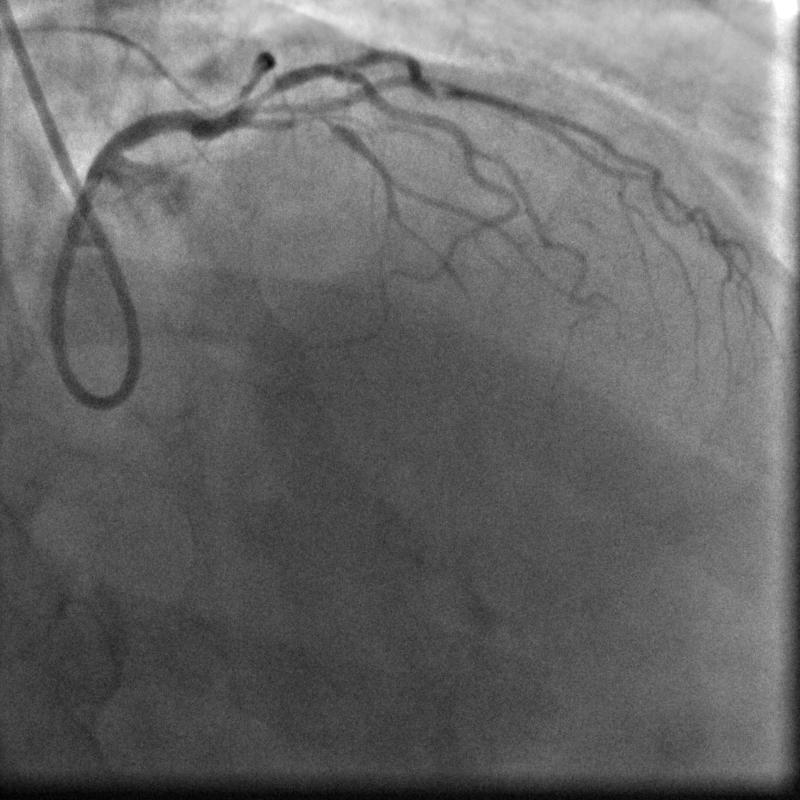Stenosis: (247, 83, 282, 109)
